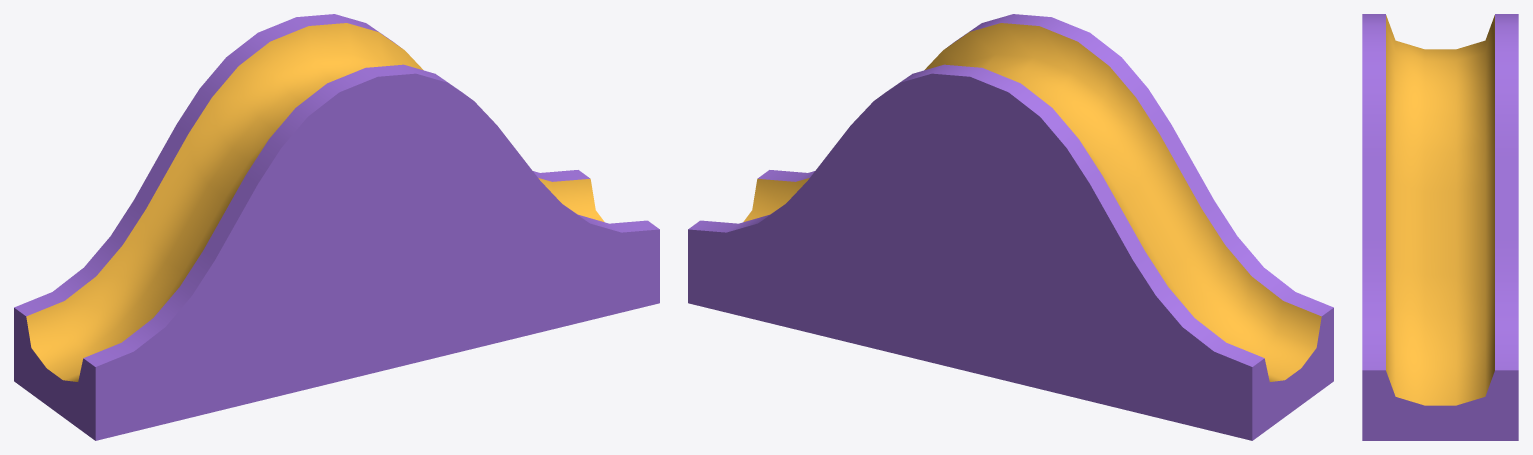
Rendered from bump-solid-d-col.glb.
3 renders of one model, left to right at view 1: azimuth 30°, elevation 25°; view 2: azimuth 150°, elevation 25°; view 3: azimuth 270°, elevation 25°, orthographic. The views are drawn at different scales.
Visible parts, largest first — view 1: bump-solid-d-col; view 2: bump-solid-d-col; view 3: bump-solid-d-col.
Part boxes in pixels (x1=…): bump-solid-d-col: x1=14, y1=14, x2=659, y2=440; bump-solid-d-col: x1=688, y1=14, x2=1333, y2=440; bump-solid-d-col: x1=1362, y1=14, x2=1518, y2=440.
Bounding box in the file's own units: 4 × 2 × 1.
1 material, 1 textured.
